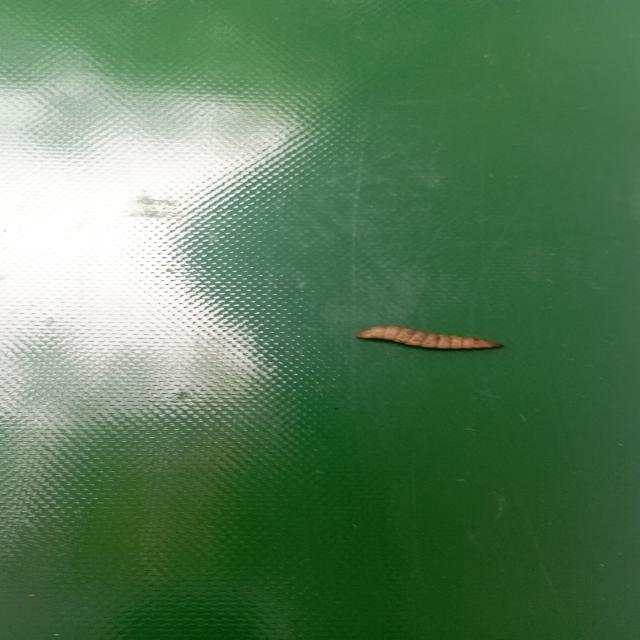Maggot: (357, 327, 504, 354)
